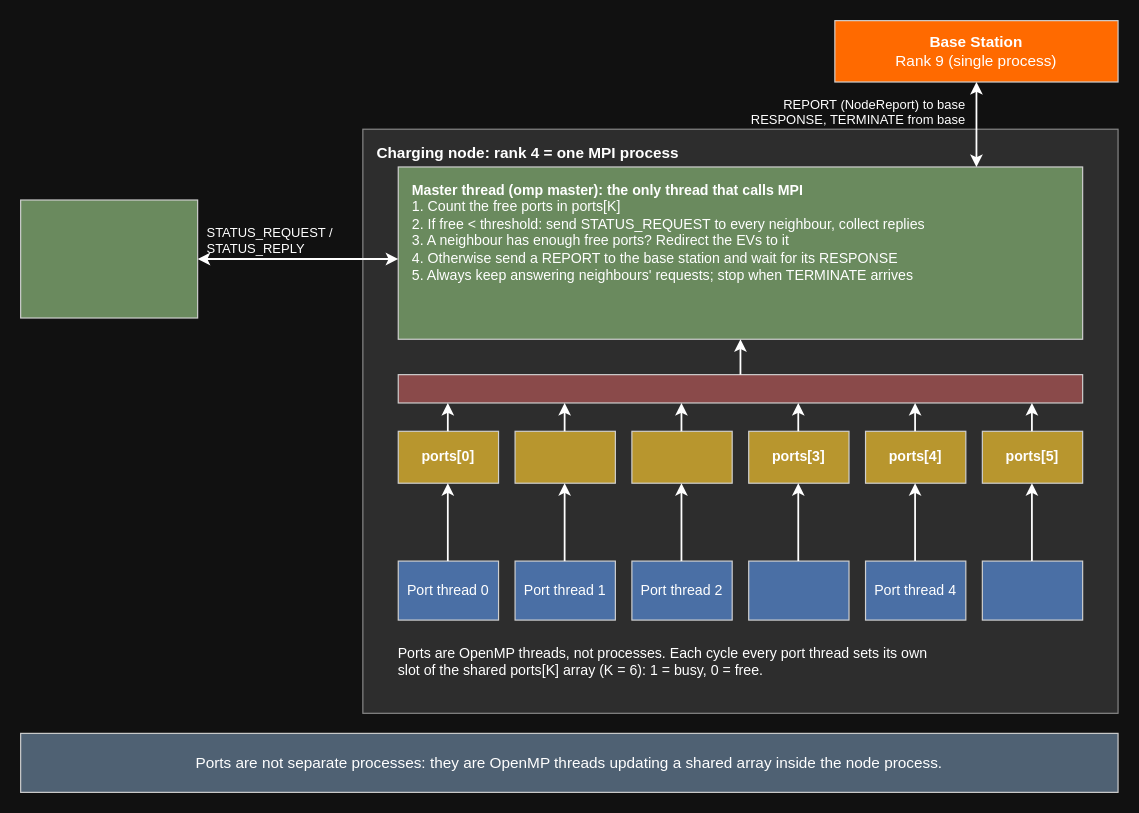
The diagram is 1139 pixels wide and 813 high, and some of its shapes have lost their labels. The shapes that lost their labels are listed below. From the top down, each one's centre as x and y in pixels, then its label:
At [108,258]: "Neighbour nodes ranks 1, 3, 5, 7".
At [740,388]: "omp barrier: every port has updated before the count".
At [564,456]: "ports[1]".
At [681,456]: "ports[2]".
At [798,590]: "Port thread 3".
At [1032,590]: "Port thread 5".
